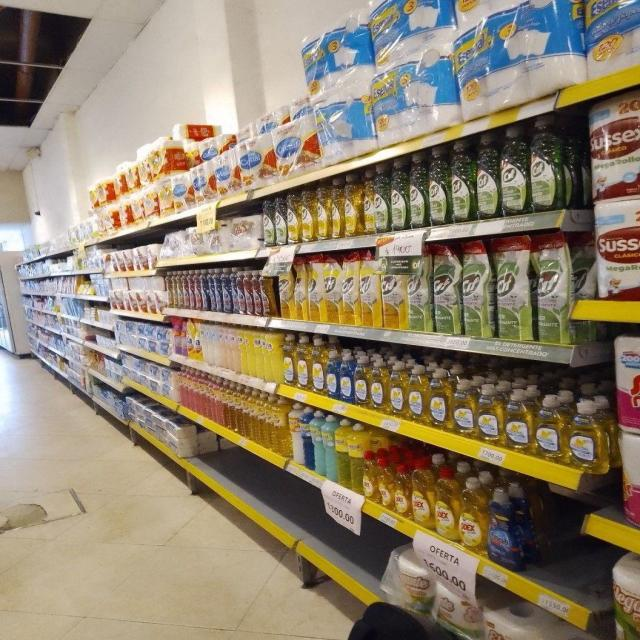ala_crem_amarillo: (264, 329, 277, 382), (253, 328, 264, 380), (245, 328, 253, 378)
cif_conc_bot_amarilla: (530, 116, 564, 212), (344, 173, 362, 236), (330, 177, 344, 239), (316, 180, 330, 240), (300, 188, 314, 242), (363, 167, 374, 234), (287, 192, 300, 244), (274, 195, 286, 246), (262, 197, 274, 247)
cif_conc_botella_verde: (500, 125, 528, 216), (450, 140, 475, 222), (476, 132, 499, 220), (428, 146, 450, 226), (409, 152, 427, 228), (391, 157, 408, 230), (373, 163, 390, 233)
cif_conc_sachet_amarillo: (495, 234, 532, 340), (462, 240, 491, 338), (432, 243, 460, 334), (406, 246, 431, 332), (381, 249, 405, 330), (359, 249, 380, 328), (339, 251, 357, 325), (307, 255, 323, 322), (278, 259, 292, 319), (294, 256, 306, 321)
magistral_con_amarillo: (569, 398, 610, 473), (534, 394, 566, 462), (505, 388, 533, 452), (477, 384, 502, 444), (428, 368, 451, 429), (452, 380, 475, 436), (408, 364, 428, 423), (389, 361, 407, 418), (370, 357, 388, 412), (310, 334, 324, 394), (354, 352, 369, 407), (296, 334, 310, 391), (282, 334, 295, 387)
magistral_con_azul: (339, 349, 354, 403), (326, 348, 338, 398)
odex: (460, 476, 487, 550), (435, 457, 458, 541), (412, 454, 434, 529)
